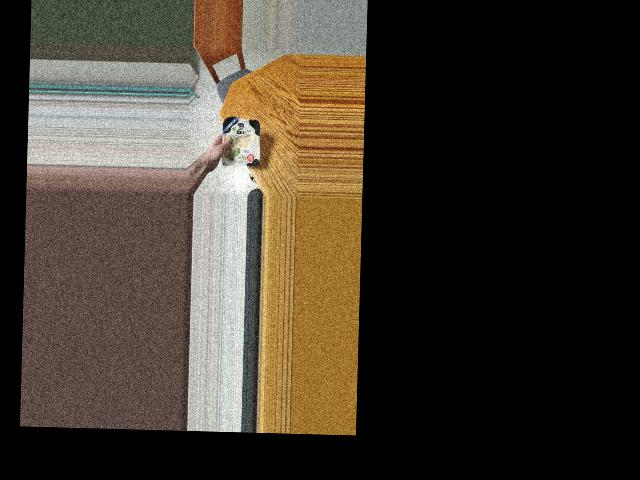cheese: (218, 116, 260, 169)
